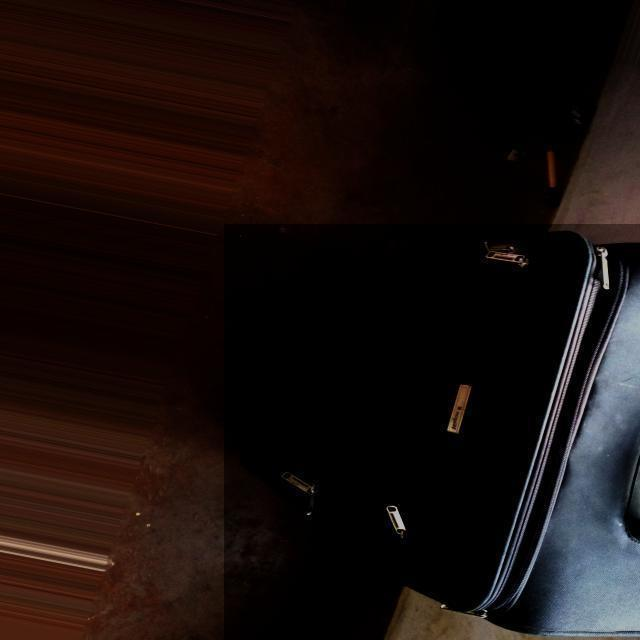Suitcase: (247, 217, 640, 640)
